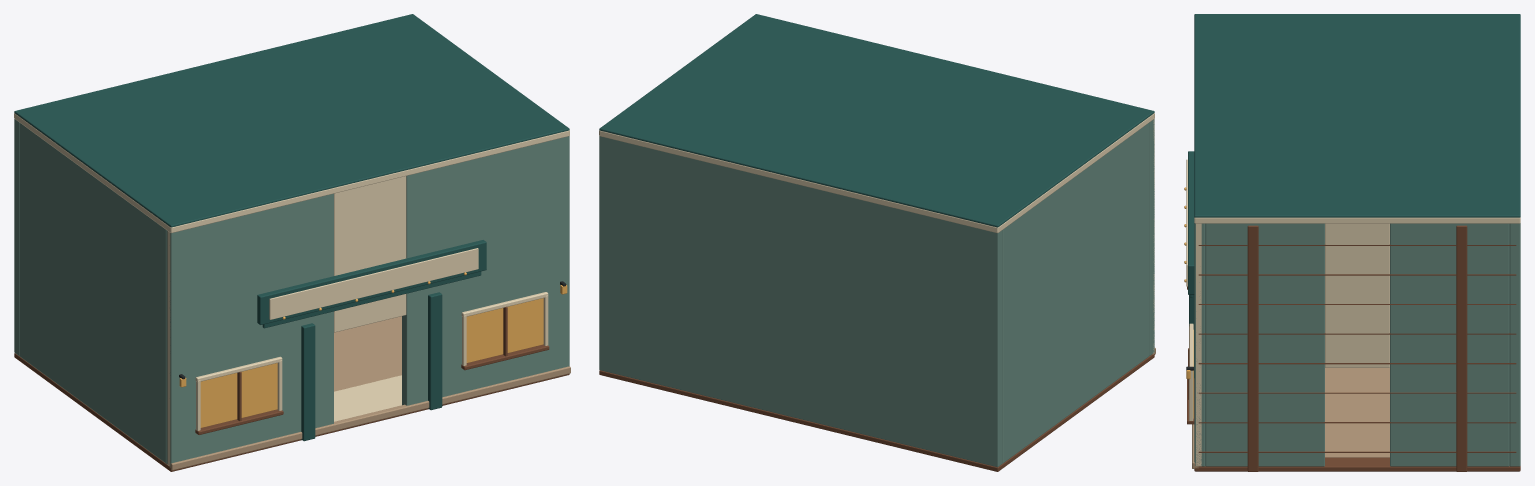
Rendered from NQ-BLD-01.glb.
3 views of the same model, side by side, from view 1: azimuth 30°, elevation 25°; view 2: azimuth 150°, elevation 25°; view 3: azimuth 270°, elevation 25° (orthographic). The views are drawn at different scales.
Parts seen in each view (by area): view 1: Roof_RemoveForInteriorReview, LeftWall, FrontWing, FrontWing.001, DoorHeader, MarqueeCreamInset, HallZone_40x14, WindowGraphicProxy.001, WindowGraphicProxy, PlinthBand, MarqueeHousing, CreamRoofCornice (+10 smaller); view 2: RearWall, Roof_RemoveForInteriorReview, LeftWall, Floor, CreamRoofCornice.001, FrontWing, CreamSideCornice; view 3: Roof_RemoveForInteriorReview, ServiceWallWing, ServiceWallWing.001, ServiceHeader, HallZone_40x14, SideBrickPilaster, SideBrickPilaster.001, RearWall, Floor, CreamSideCornice.001, FrontWing.001, CornerTrim.001 (+7 smaller).
Boxes of the visible parts, bbox=[...] form: Roof_RemoveForInteriorReview: bbox=[14, 14, 569, 227]; LeftWall: bbox=[19, 123, 166, 463]; FrontWing: bbox=[166, 193, 333, 466]; FrontWing.001: bbox=[402, 136, 569, 405]; DoorHeader: bbox=[334, 176, 406, 332]; MarqueeCreamInset: bbox=[269, 248, 478, 319]; HallZone_40x14: bbox=[334, 316, 401, 391]; WindowGraphicProxy.001: bbox=[466, 298, 543, 362]; WindowGraphicProxy: bbox=[200, 363, 277, 427]; PlinthBand: bbox=[169, 366, 570, 470]; MarqueeHousing: bbox=[257, 240, 486, 324]; CreamRoofCornice: bbox=[171, 130, 569, 233]; RearWall: bbox=[599, 136, 1002, 467]; Roof_RemoveForInteriorReview: bbox=[599, 14, 1154, 227]; LeftWall: bbox=[1003, 123, 1149, 463]; Floor: bbox=[599, 354, 1154, 471]; CreamRoofCornice.001: bbox=[599, 130, 997, 233]; FrontWing: bbox=[1149, 119, 1154, 355]; CreamSideCornice: bbox=[998, 113, 1154, 232]; Roof_RemoveForInteriorReview: bbox=[1194, 14, 1520, 217]; ServiceWallWing: bbox=[1205, 223, 1324, 466]; ServiceWallWing.001: bbox=[1390, 223, 1509, 466]; ServiceHeader: bbox=[1325, 223, 1389, 367]; HallZone_40x14: bbox=[1325, 368, 1389, 457]; SideBrickPilaster: bbox=[1247, 225, 1258, 471]; SideBrickPilaster.001: bbox=[1456, 225, 1467, 471]; RearWall: bbox=[1509, 223, 1520, 466]; Floor: bbox=[1194, 457, 1520, 471]; CreamSideCornice.001: bbox=[1194, 217, 1520, 223]; FrontWing.001: bbox=[1194, 223, 1205, 466]; CornerTrim.001: bbox=[1196, 223, 1201, 466].
Bounding box in the file's own units: 44.12 × 26 × 30.97.
